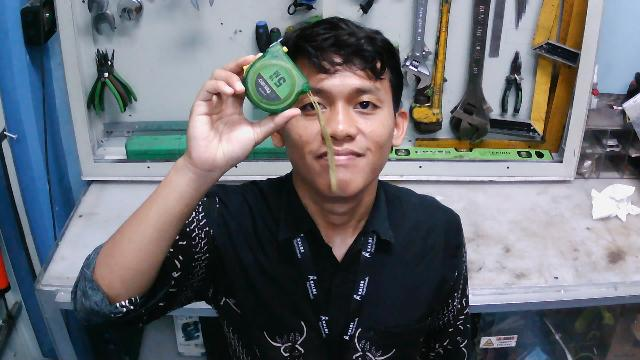meteran: (229, 39, 348, 191)
